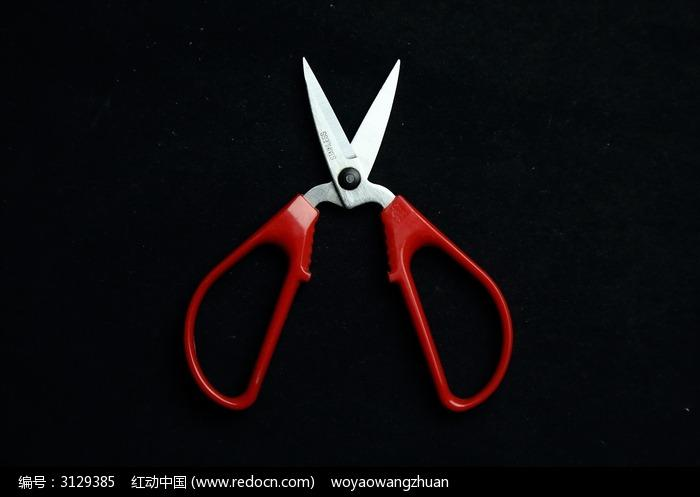scissor: (181, 52, 515, 414)
